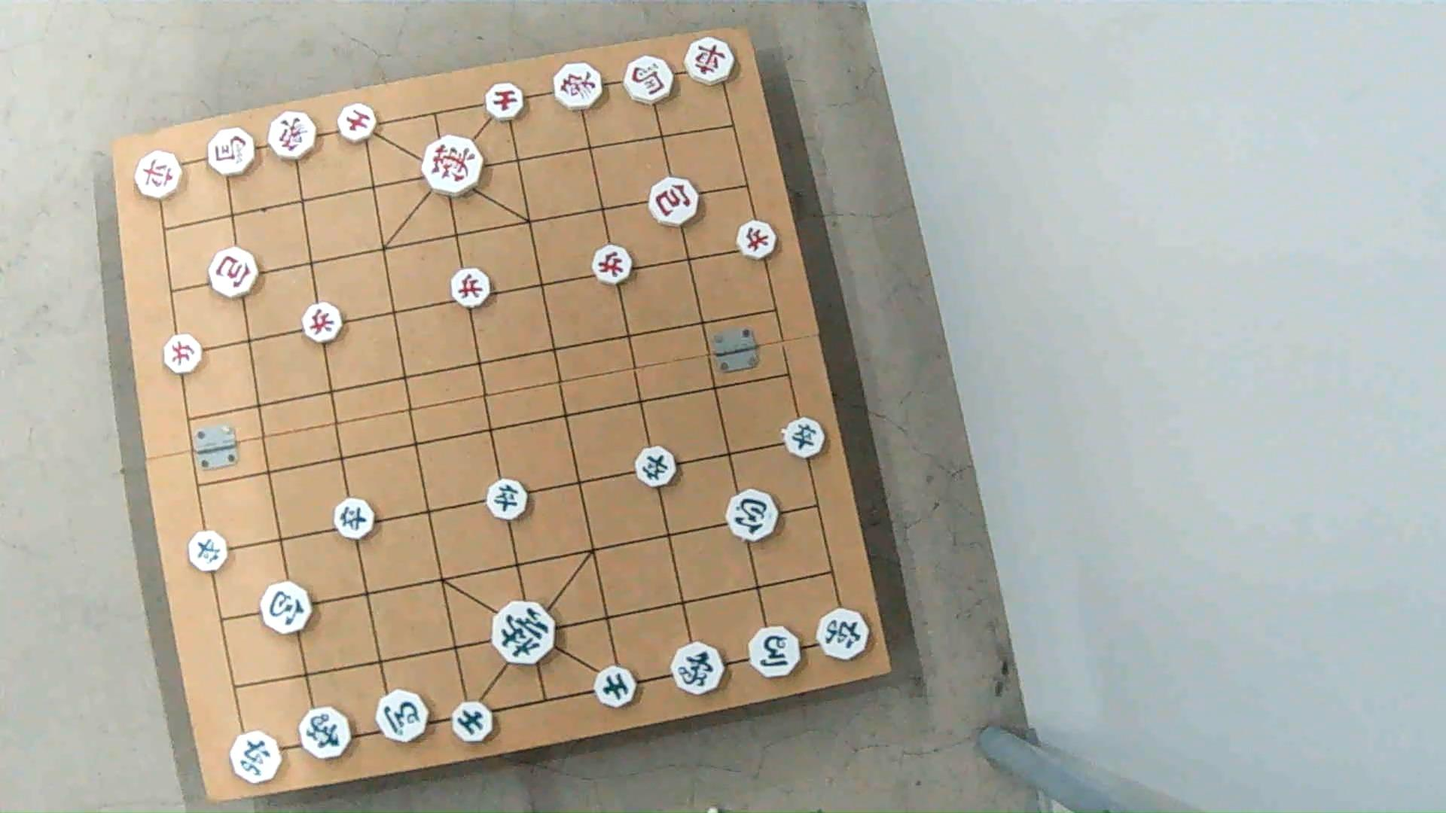cha_green: (814, 606, 868, 659), (226, 733, 282, 783)
cha_red: (685, 37, 738, 82), (138, 154, 186, 199)
jol_green: (633, 446, 678, 486), (188, 533, 233, 573), (484, 480, 529, 519), (783, 421, 830, 458), (331, 500, 374, 540)
jol_red: (160, 336, 202, 374), (302, 305, 343, 343), (739, 221, 781, 258), (452, 269, 494, 306), (595, 248, 636, 285)
ma_green: (378, 689, 427, 745), (748, 626, 800, 675)
ma_red: (205, 129, 256, 176), (624, 57, 676, 102)
po_green: (258, 584, 312, 635), (727, 491, 781, 540)
po_red: (209, 248, 261, 297), (649, 178, 702, 224)
sa_green: (596, 667, 639, 707), (453, 704, 496, 742)
sa_red: (336, 105, 378, 143), (484, 84, 525, 120)
sang_green: (300, 706, 352, 760), (672, 646, 725, 694)
sang_red: (553, 62, 602, 108), (270, 113, 316, 157)
wang_green: (490, 603, 554, 664)
wang_red: (419, 139, 483, 196)
